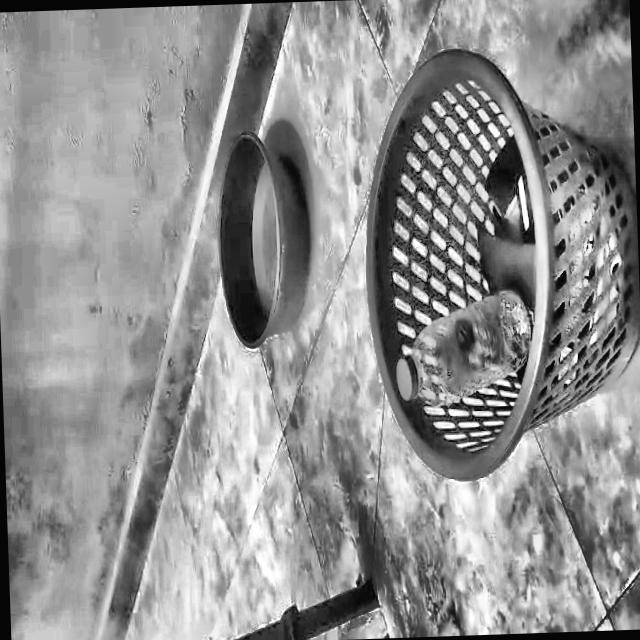Bottle-Disposed: (370, 49, 551, 472)
Plastic-Bottle: (391, 282, 534, 407)
